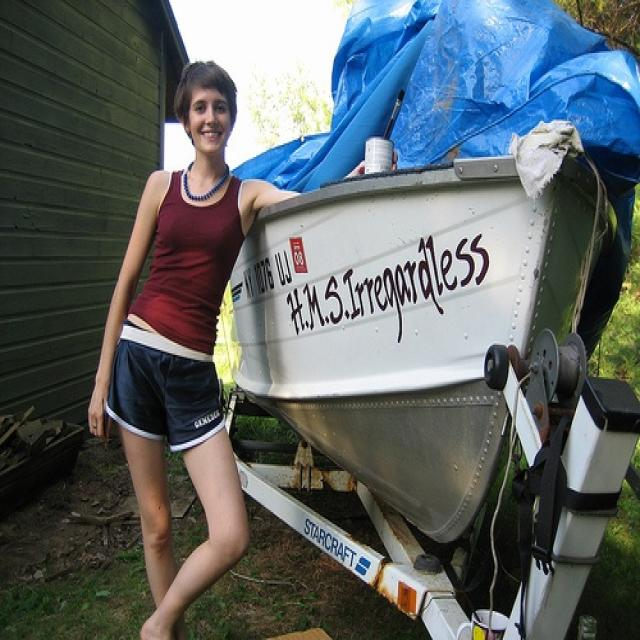boat: (190, 138, 624, 550)
